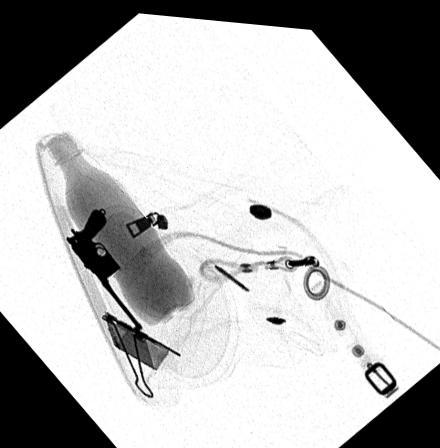Gun: (60, 206, 142, 333)
